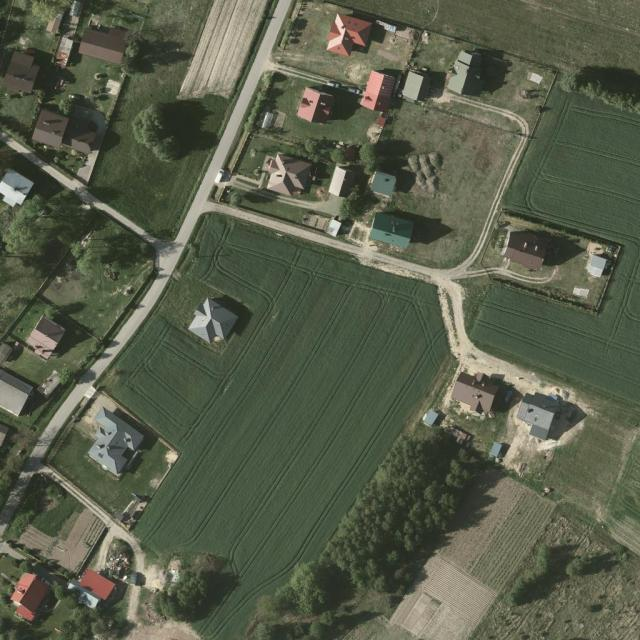agricultural_land: (349, 392, 640, 640)
building: (476, 207, 621, 315), (74, 407, 146, 477), (184, 295, 240, 350), (65, 561, 118, 613), (261, 150, 316, 199), (4, 568, 53, 623), (512, 386, 560, 441), (77, 19, 130, 65), (448, 371, 499, 417), (324, 12, 373, 59), (23, 315, 67, 362), (367, 210, 416, 251), (295, 85, 337, 128), (447, 50, 486, 96), (2, 50, 41, 96), (0, 369, 35, 417), (359, 70, 397, 114), (31, 108, 69, 149), (0, 167, 35, 211), (328, 163, 358, 200), (402, 69, 431, 105), (370, 171, 397, 197)
greenland: (236, 409, 506, 640), (71, 0, 272, 237), (361, 86, 522, 276), (0, 183, 156, 349), (151, 550, 218, 633)
unmetalled_road: (436, 265, 482, 367)
